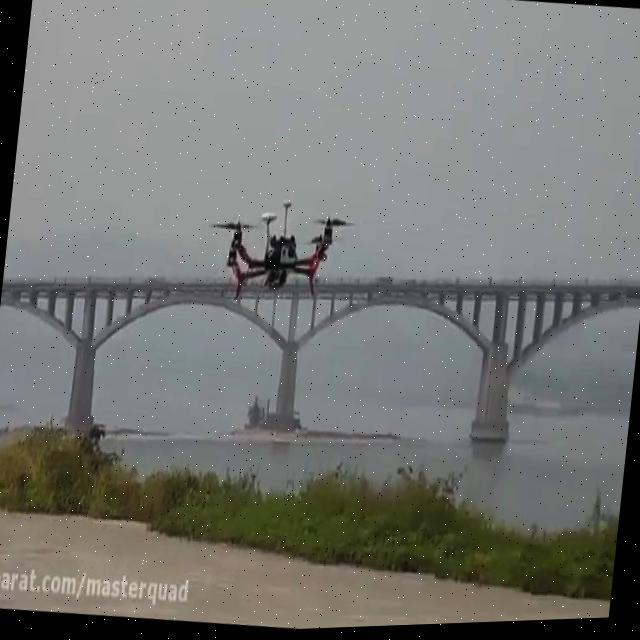drone: (198, 188, 358, 317)
